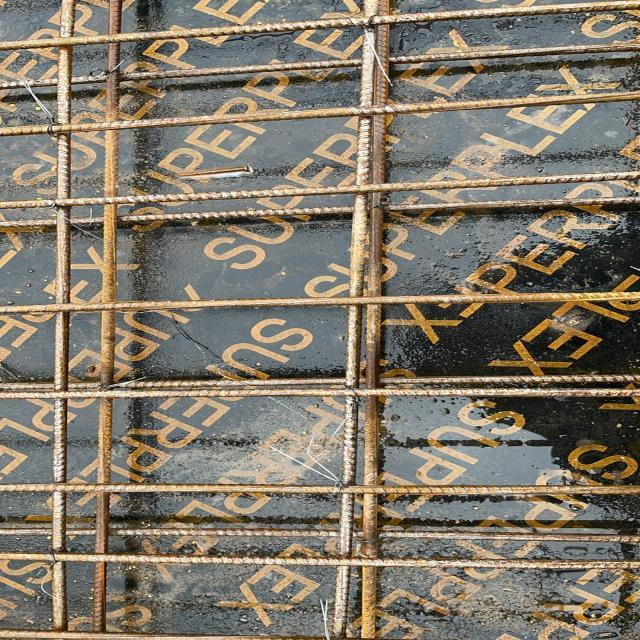ribbed bar: (0, 0, 639, 51), (329, 0, 378, 638), (0, 41, 639, 89), (0, 89, 639, 137), (0, 171, 639, 209), (0, 197, 639, 229), (359, 0, 391, 638), (91, 0, 118, 634), (50, 0, 74, 631), (0, 291, 639, 313), (0, 526, 639, 544), (0, 373, 639, 389), (0, 554, 639, 570), (0, 483, 639, 497), (0, 388, 639, 399), (0, 630, 427, 640)
